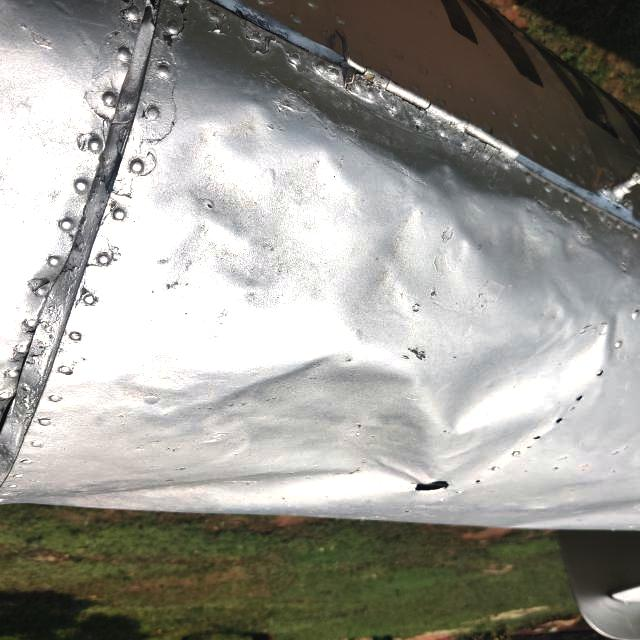dent: (138, 102, 356, 352), (151, 324, 458, 486), (426, 300, 635, 458)
